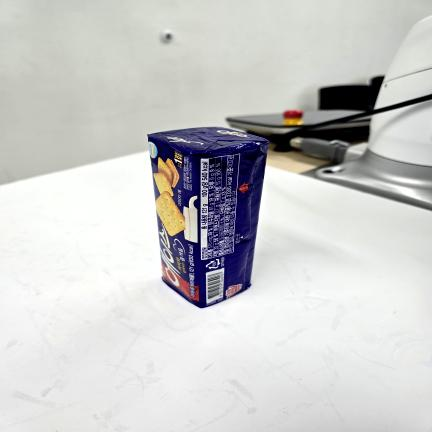cracker_ace: (148, 127, 268, 308)
